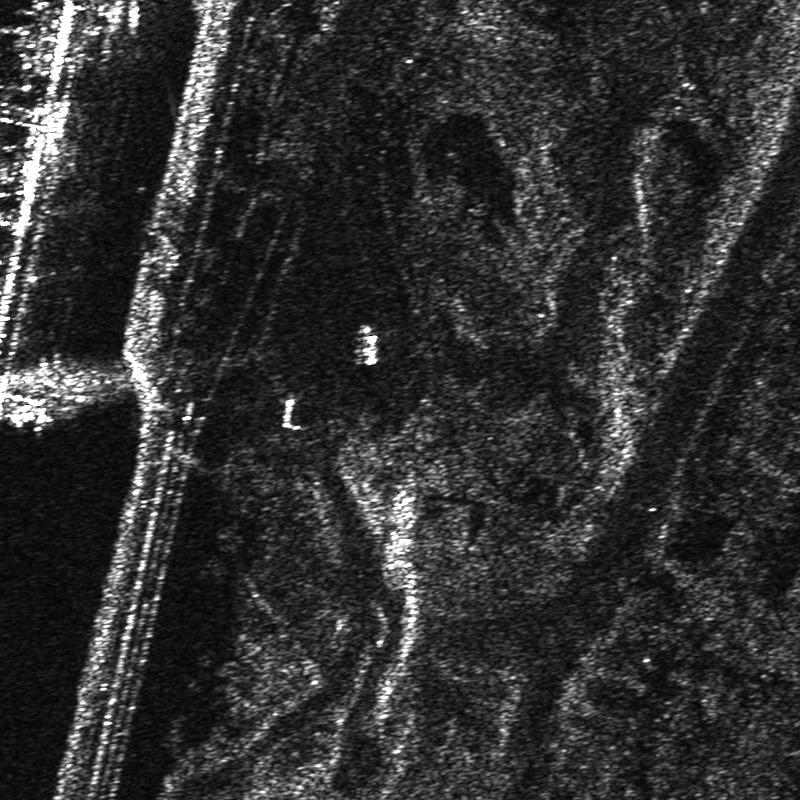ship: (0, 392, 51, 429)
